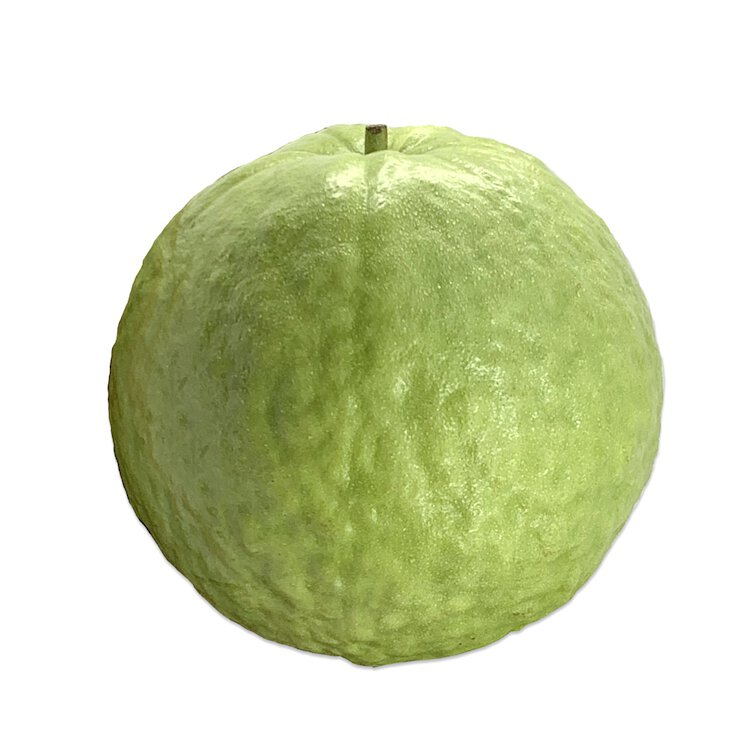guava: (93, 124, 667, 669)
